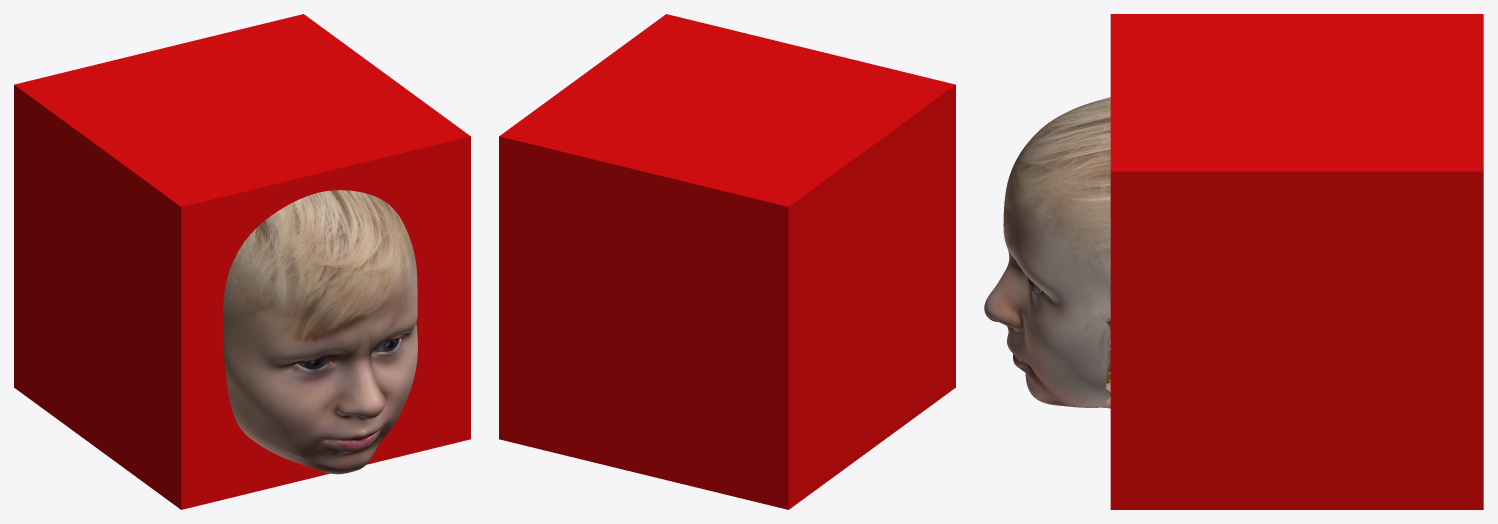
Rendered from marah c fix.fbx.
The picture shows the model from 3 angles, left to right: view 1: azimuth 30°, elevation 25°; view 2: azimuth 150°, elevation 25°; view 3: azimuth 270°, elevation 25°; orthographic projection. The views are drawn at different scales.
Visible parts, largest first — view 1: FBHead.004; view 2: FBHead.004; view 3: FBHead.004.
Part boxes in pixels (x1,y1,x2,y2): FBHead.004: (14,14,470,509); FBHead.004: (499,14,955,509); FBHead.004: (984,14,1483,509).
Bounding box in the file's own units: 207 × 207 × 277.
